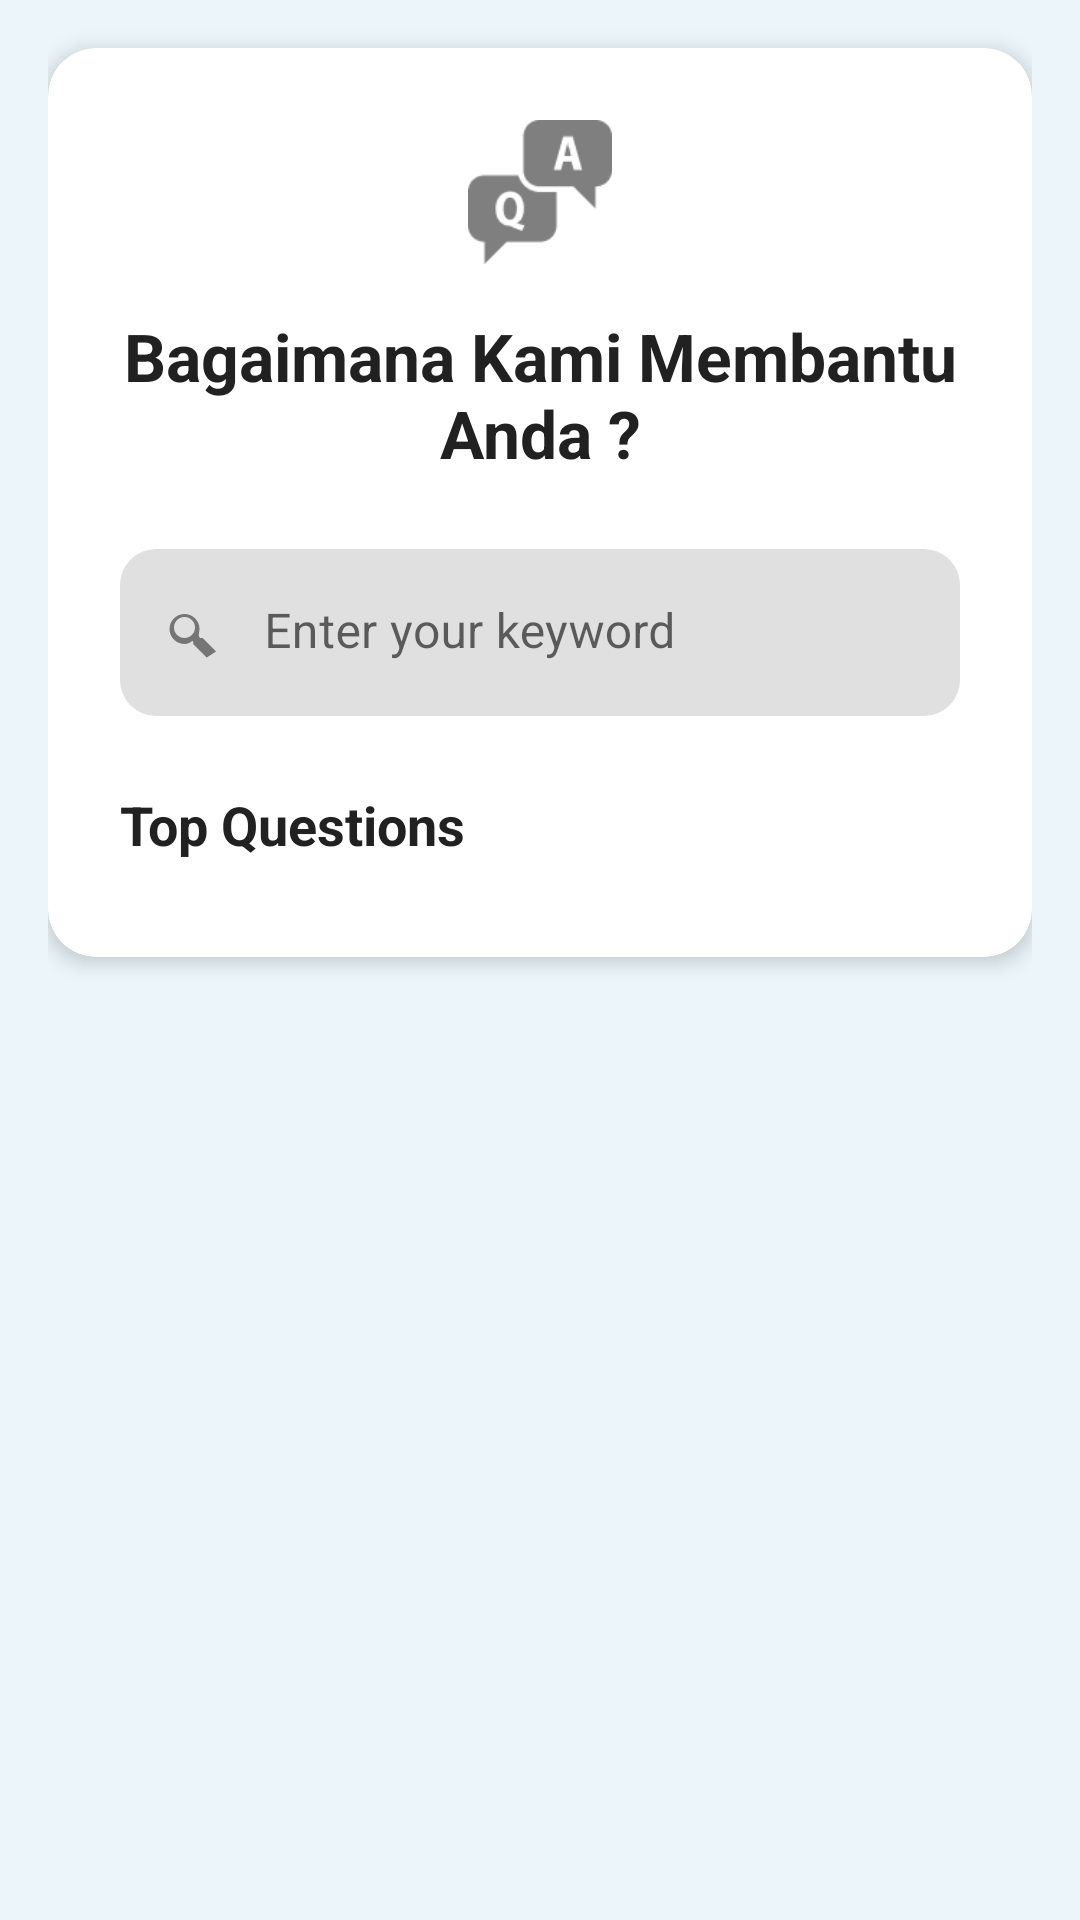

Screen size 1080px x 1920px. Icon name, then its box in pixels as (x1, y1, x2, y2):
Question and Answer Icon: (468, 120, 612, 264)
